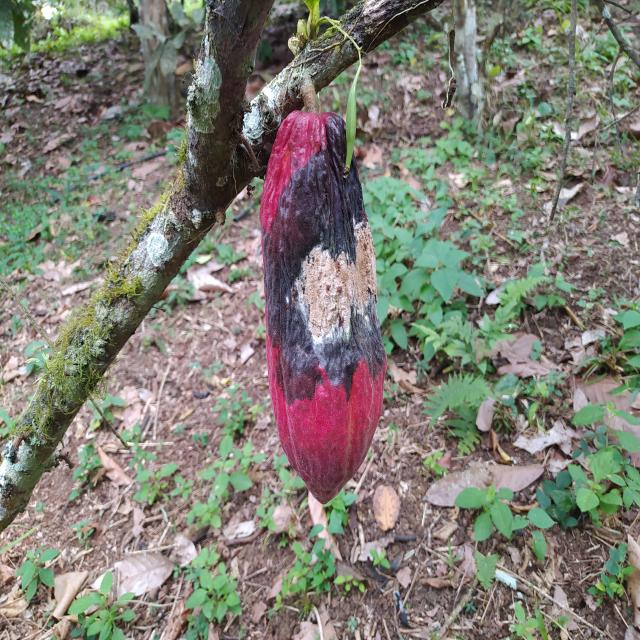Monilia: (262, 110, 386, 506)
